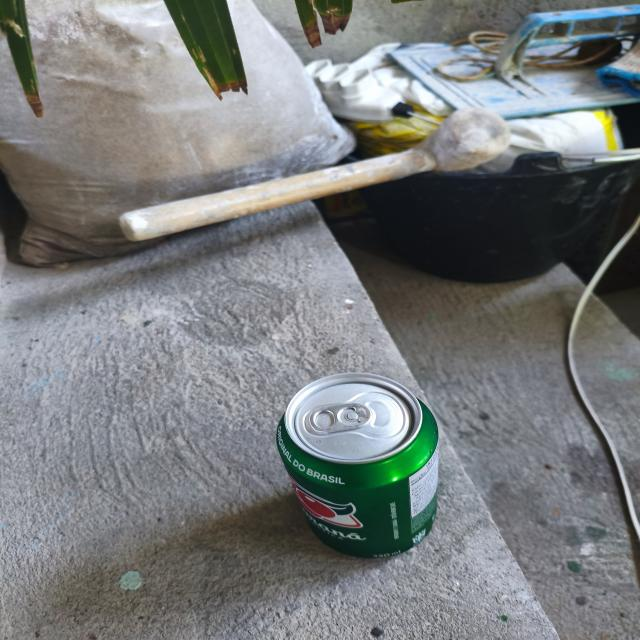Guarana: (272, 370, 468, 581)
